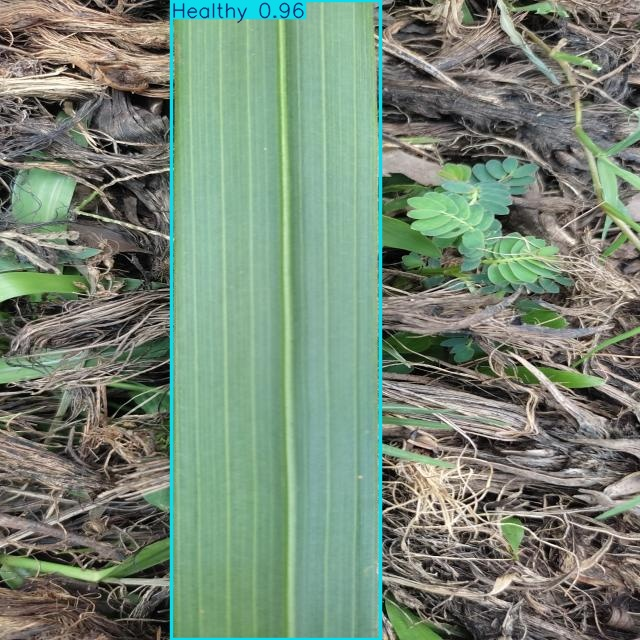Healthy: (172, 0, 380, 640)
